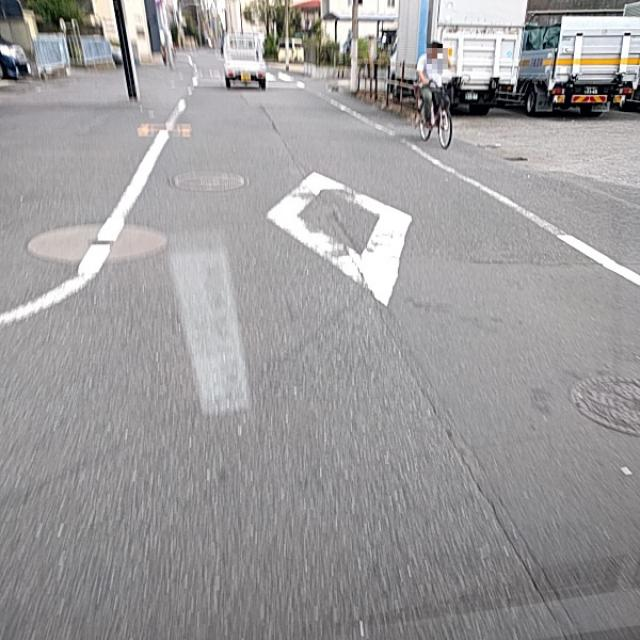pothole: (309, 208, 372, 287)
